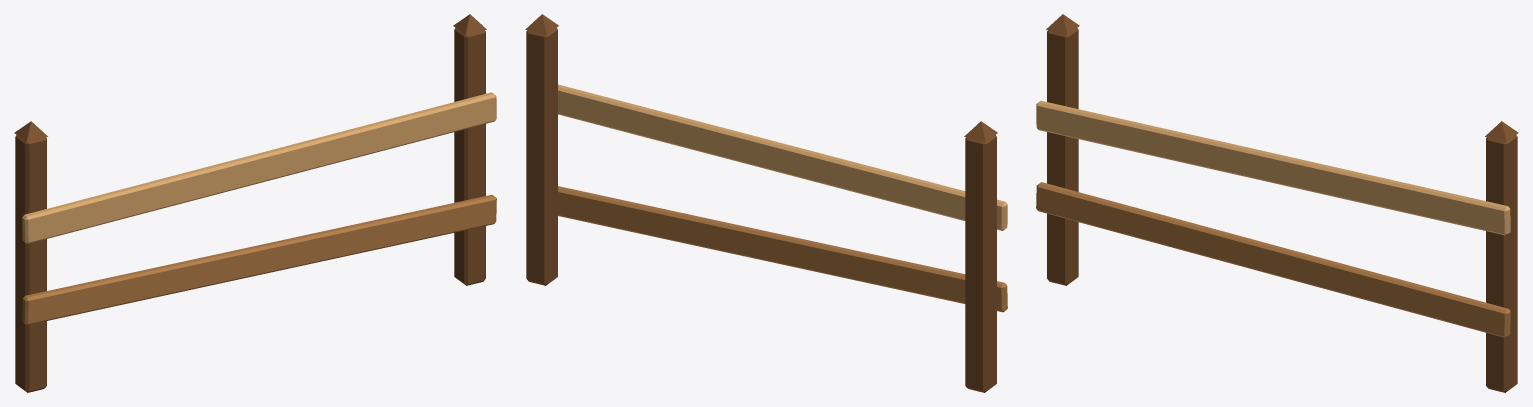
Rendered from SM_Fence_Section.glb.
3 renders of one model, left to right at view 1: azimuth 30°, elevation 25°; view 2: azimuth 150°, elevation 25°; view 3: azimuth 330°, elevation 25°, orthographic.
Visible parts, largest first — view 1: SM_Fence_Section; view 2: SM_Fence_Section; view 3: SM_Fence_Section.
Part boxes in pixels (x1=…): SM_Fence_Section: x1=14, y1=14, x2=496, y2=392; SM_Fence_Section: x1=525, y1=14, x2=1007, y2=392; SM_Fence_Section: x1=1036, y1=14, x2=1518, y2=392.
Bounding box in the file's own units: 2.15 × 1.16 × 0.14.
Materials: 1 (1 with a texture image).
